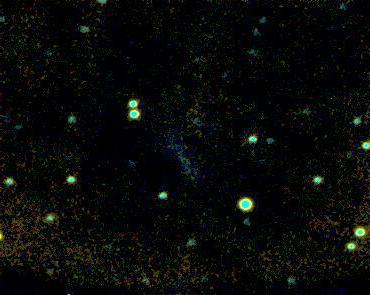star: (0, 222, 20, 252)
